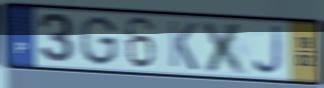3: (36, 12, 76, 65)
6: (124, 15, 158, 71)
G: (77, 14, 120, 68)
J: (251, 24, 286, 78)
K: (166, 19, 200, 73)
X: (200, 19, 252, 77)
